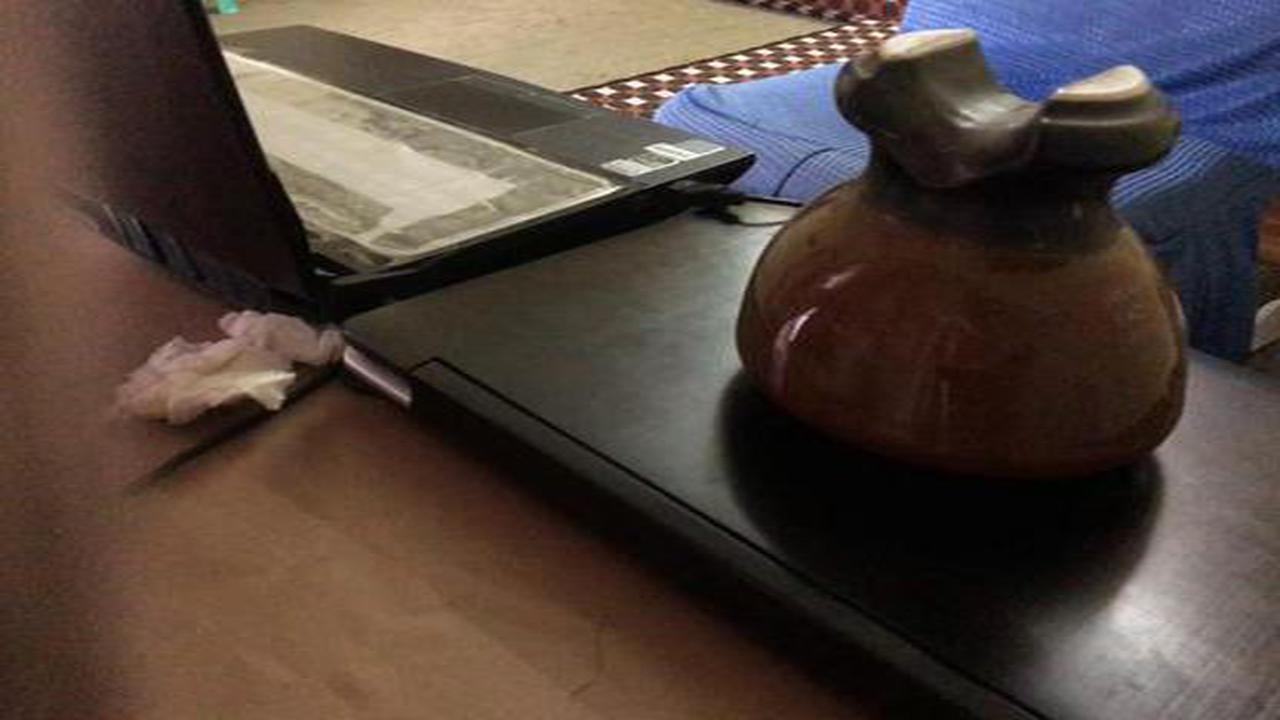insulator_pin: (699, 11, 1231, 501)
